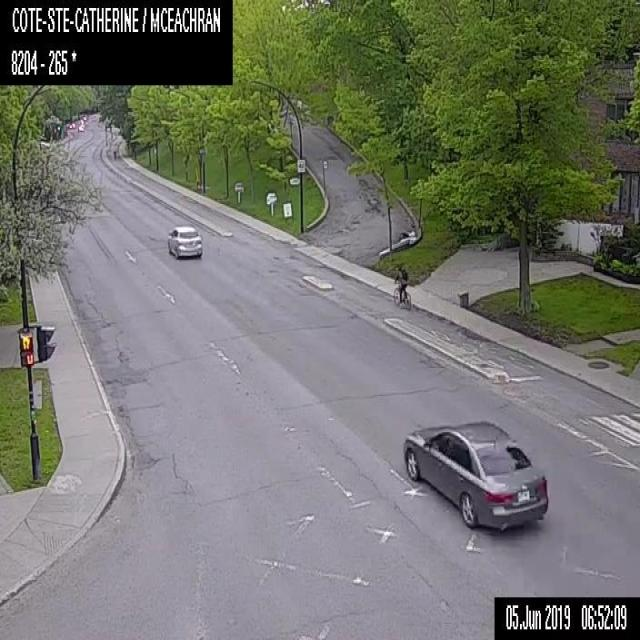cyclist: (392, 263, 412, 308)
vehicle: (402, 417, 550, 531), (167, 223, 203, 257), (68, 121, 76, 128), (77, 123, 84, 130)
